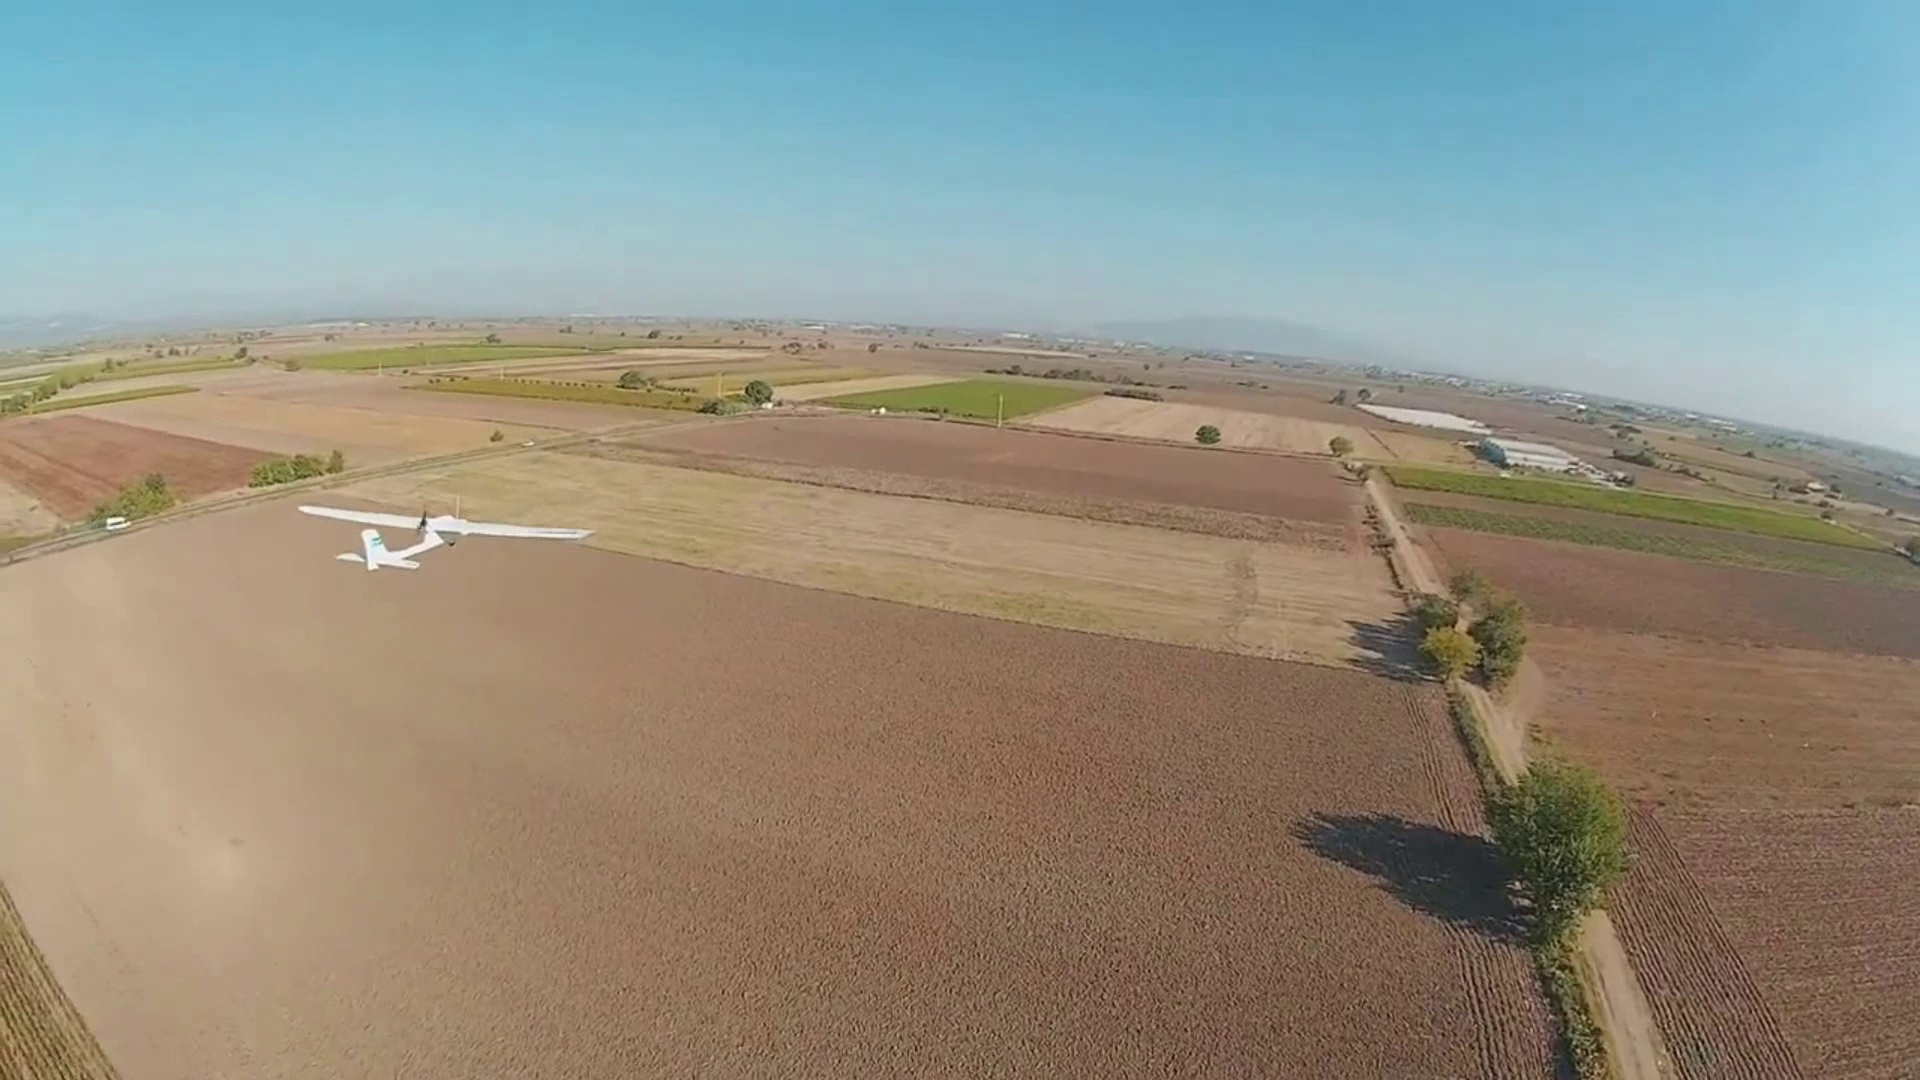airplane: (299, 507, 594, 566)
